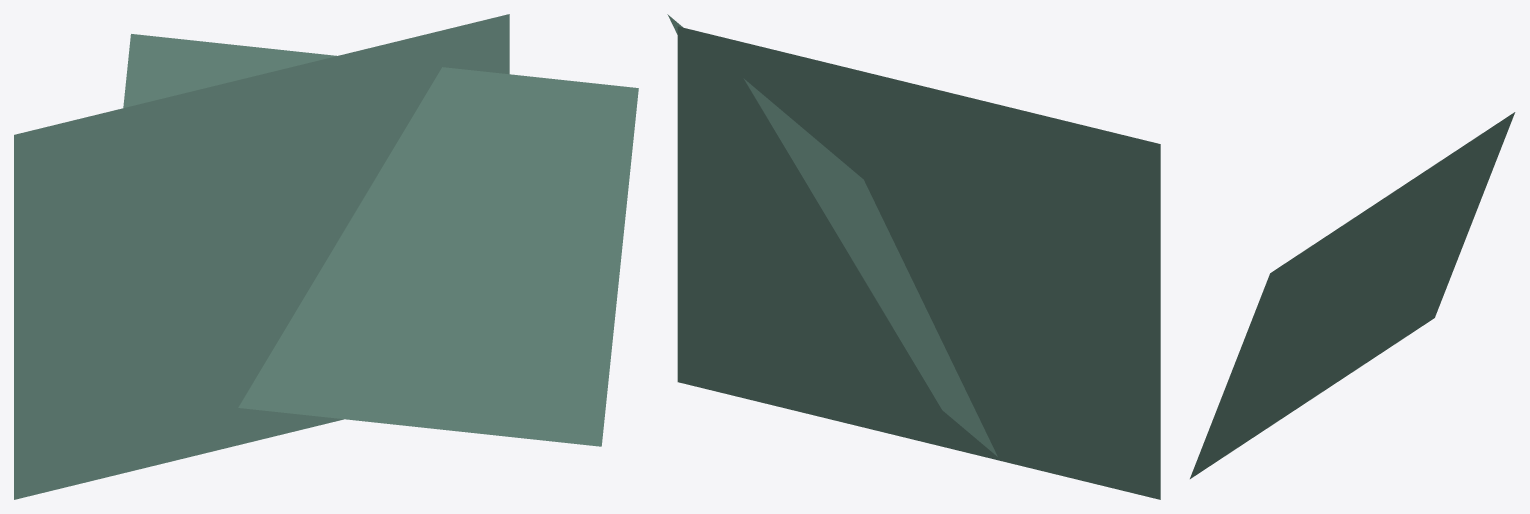
The model's file is Grass Blade Bark MAIN GRASS 1.fbx.
3 renders of one model, left to right at view 1: azimuth 30°, elevation 25°; view 2: azimuth 150°, elevation 25°; view 3: azimuth 270°, elevation 25°, orthographic. The views are drawn at different scales.
Parts seen in each view (by area): view 1: Quad, Quad 1; view 2: Quad, Quad 1; view 3: Quad 1.
Boxes of the visible parts, <box> form: Quad: <box>14,14,509,499</box>; Quad 1: <box>123,34,638,446</box>; Quad: <box>677,26,1160,499</box>; Quad 1: <box>667,14,997,456</box>; Quad 1: <box>1190,112,1515,478</box>.
Size of the model in its own units: 2.24 by 1.38 by 1.4.
